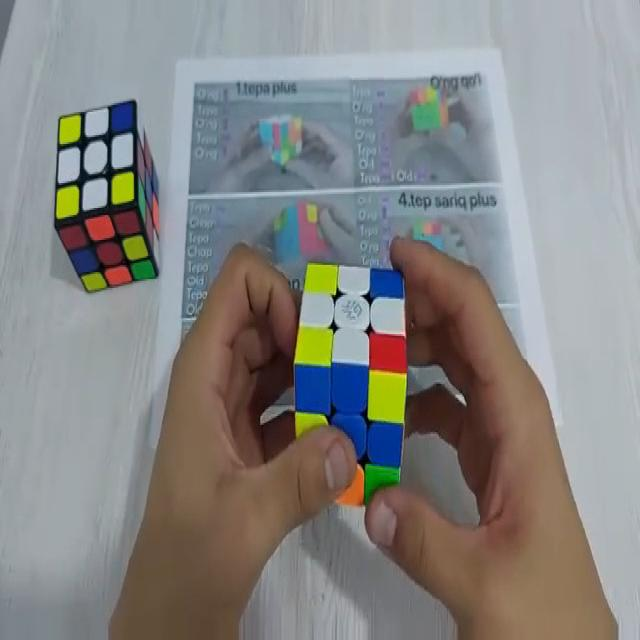Rub: (293, 262, 408, 514), (55, 99, 162, 298)
